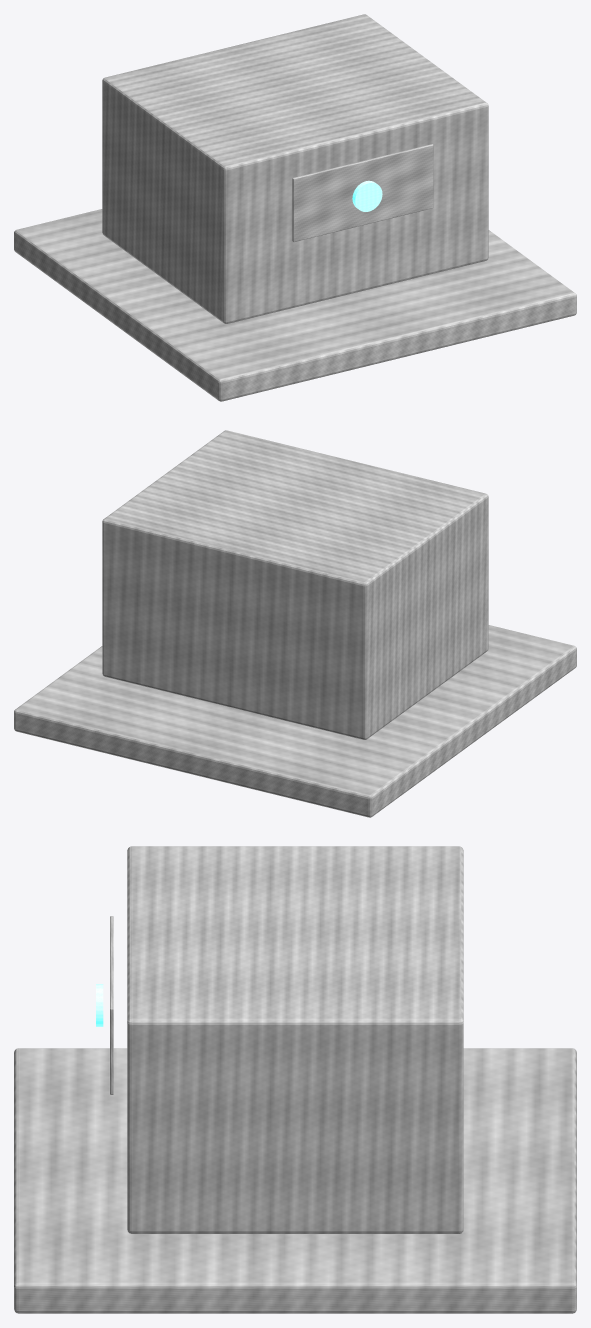
File: lights_variant_d.glb
3 views of the same model, one above another, from view 1: azimuth 30°, elevation 25°; view 2: azimuth 150°, elevation 25°; view 3: azimuth 270°, elevation 25° (orthographic). The views are drawn at different scales.
Visible parts, largest first — view 1: Fixture housing.003, Foundation.003, Control face, Light lens.003; view 2: Fixture housing.003, Foundation.003; view 3: Fixture housing.003, Foundation.003, Control face.
Boxes of the visible parts, x1,y1,x2,y2 form: Fixture housing.003: (102, 14, 488, 323); Foundation.003: (14, 209, 576, 401); Control face: (292, 144, 433, 241); Light lens.003: (352, 180, 382, 211); Fixture housing.003: (102, 430, 488, 739); Foundation.003: (14, 625, 576, 817); Fixture housing.003: (127, 846, 463, 1233); Foundation.003: (14, 1048, 576, 1313); Control face: (110, 916, 113, 1094).
Size of what is drawn, in the model's own units: 7.36 by 3.8 by 7.36.
Materials: 5 (5 with a texture image).
